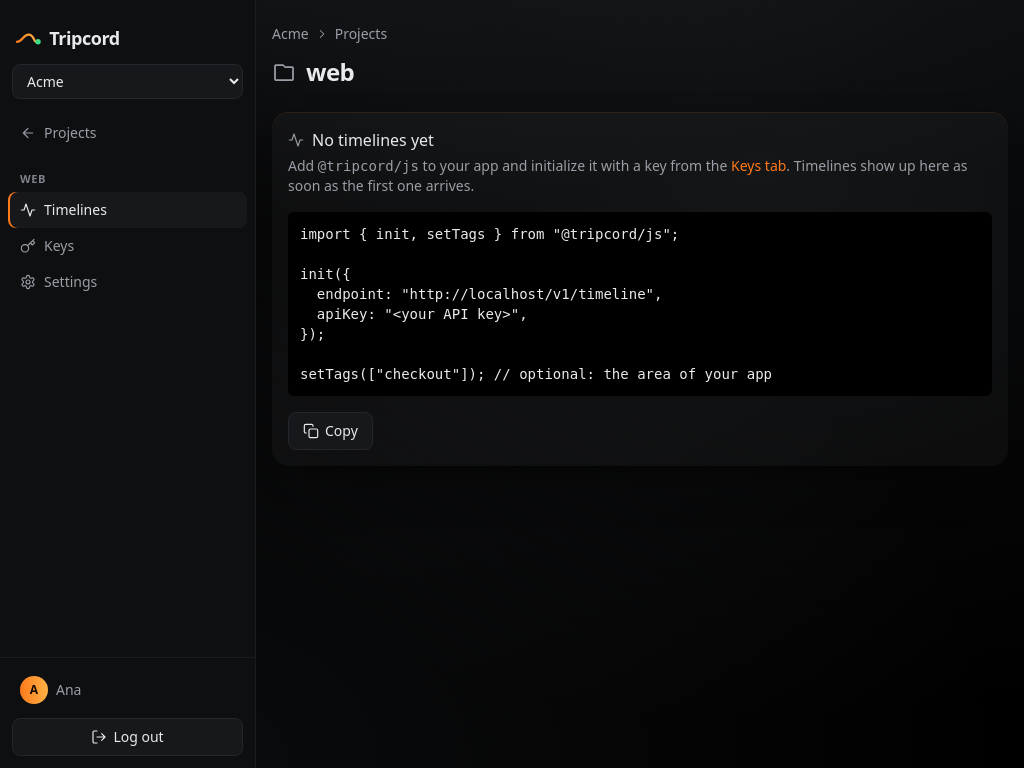
Test: project page › opens on the Timelines tab and switches to Keys
Expected: the heading "web" is shown, [272, 56, 354, 88]
Click the link "Keys" at {"x": 47, "y": 245}, box [20, 236, 74, 255]
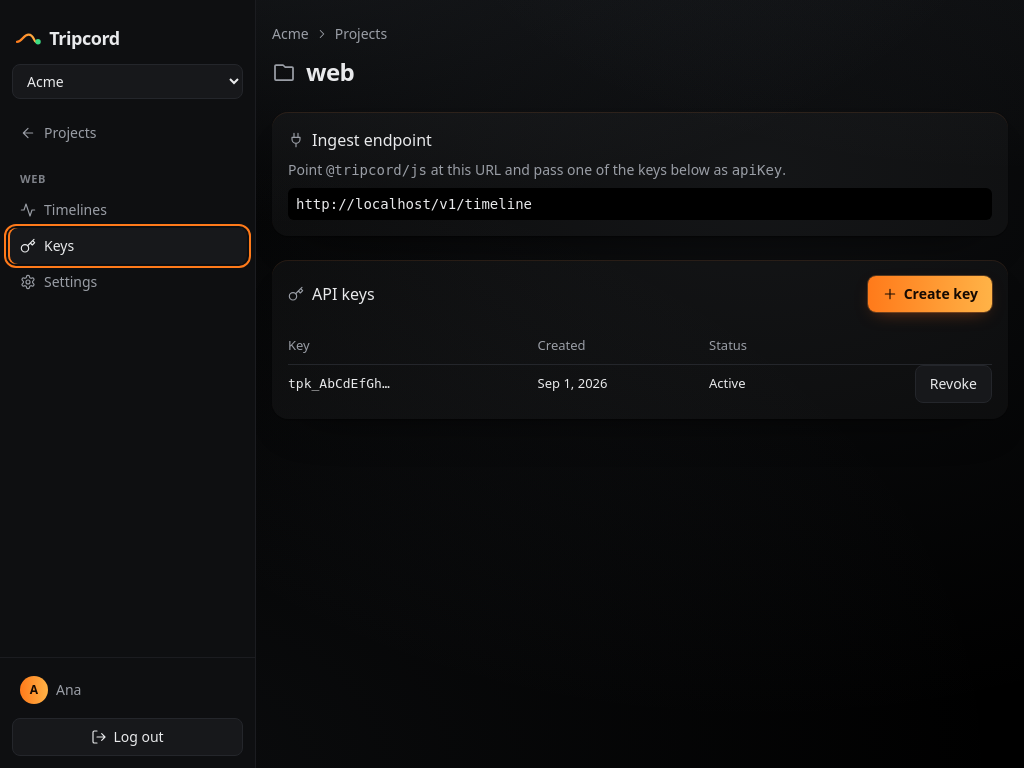
Expected: the text "tpk_AbCdEfGh…" is shown, [288, 364, 538, 402]
